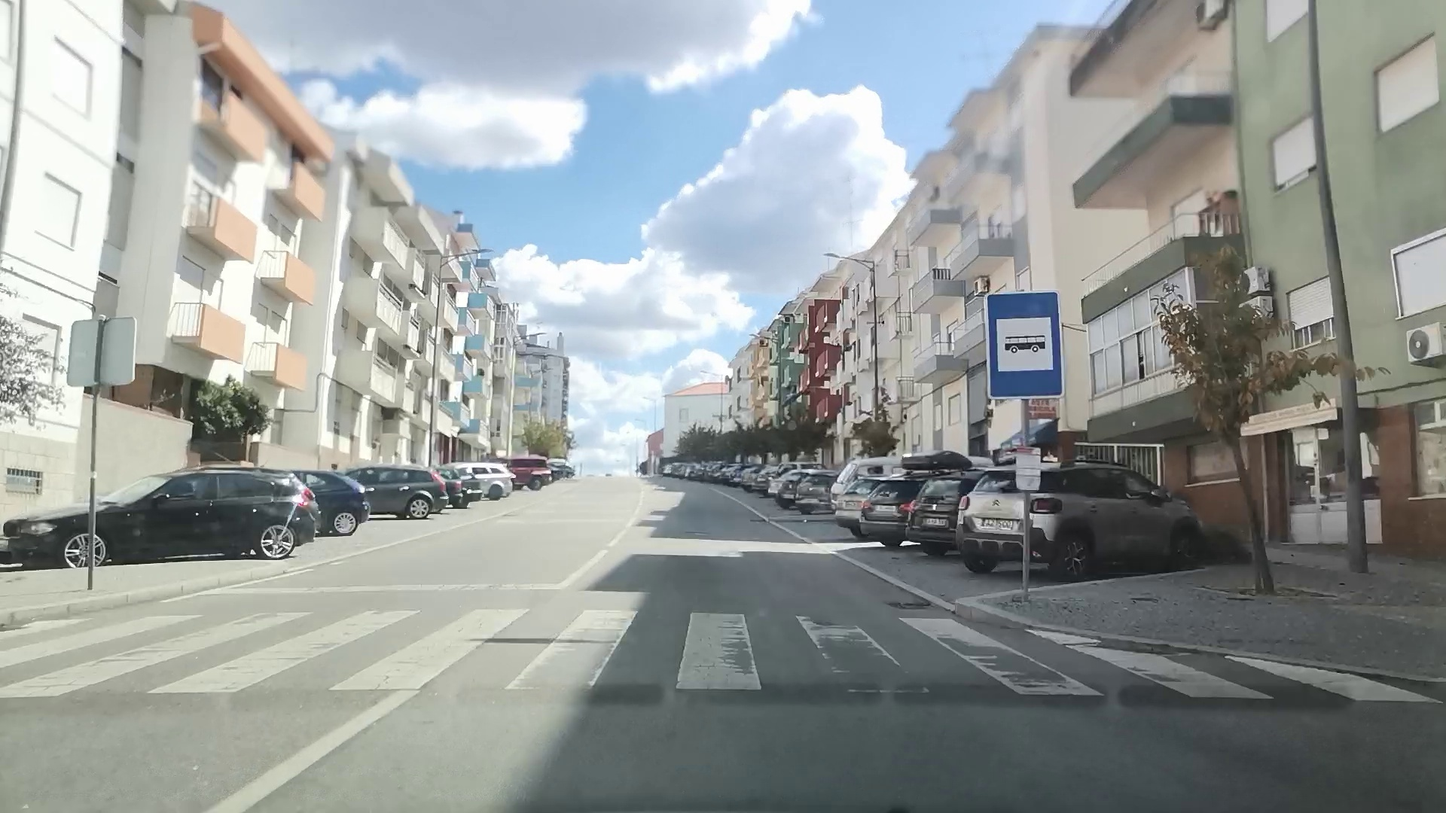Stairs: (0, 608, 1433, 704)
